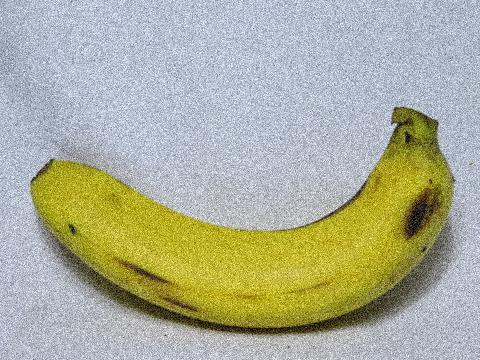freshripe: (18, 89, 462, 338)
